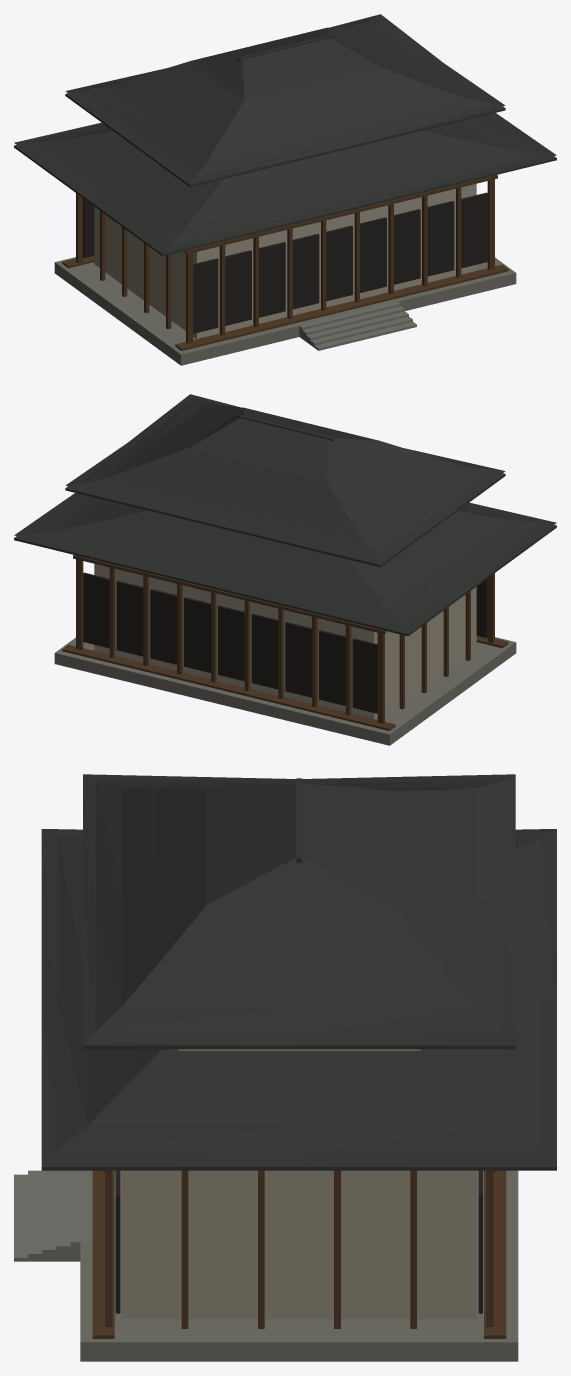
Rendered from tojiKondo.glb.
3 views of the same model, one above another, from view 1: azimuth 30°, elevation 25°; view 2: azimuth 150°, elevation 25°; view 3: azimuth 270°, elevation 25° (orthographic). The views are drawn at different scales.
Size of the model in its own units: 44.56 by 25.04 by 30.68.
